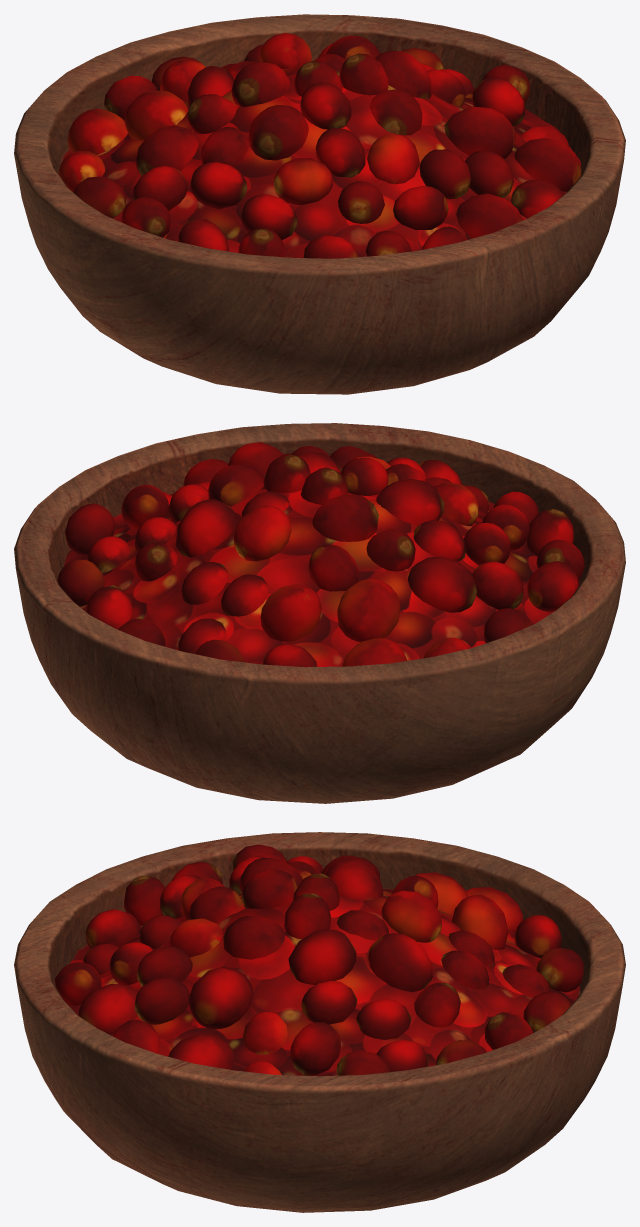
File: cranberry_sauce.glb
3 views of the same model, one above another, from view 1: azimuth 30°, elevation 25°; view 2: azimuth 150°, elevation 25°; view 3: azimuth 270°, elevation 25° (orthographic).
Visible parts, largest first — view 1: node_id81_2; view 2: node_id81_2; view 3: node_id81_2.
Part boxes in pixels (x1=…): node_id81_2: x1=14, y1=14, x2=625, y2=394; node_id81_2: x1=14, y1=423, x2=625, y2=803; node_id81_2: x1=14, y1=832, x2=625, y2=1212.
Size of the model in its own units: 0.8818 by 0.4066 by 0.8818.
Materials: 1 (1 with a texture image).
